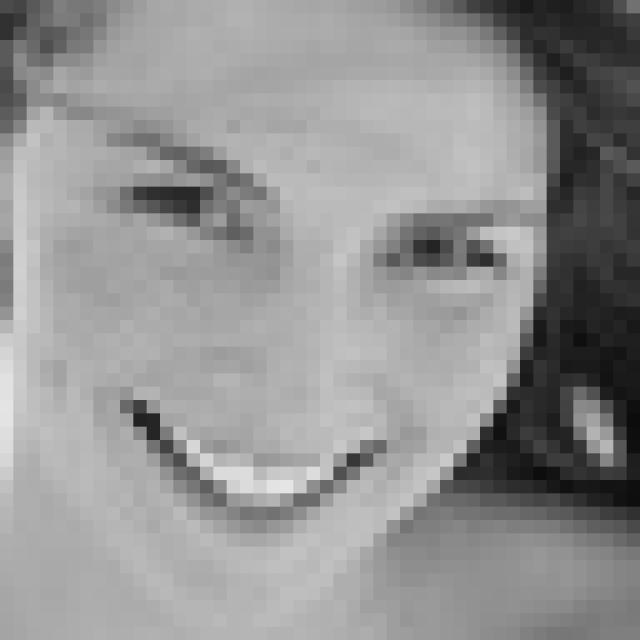happy: (84, 120, 548, 546)
